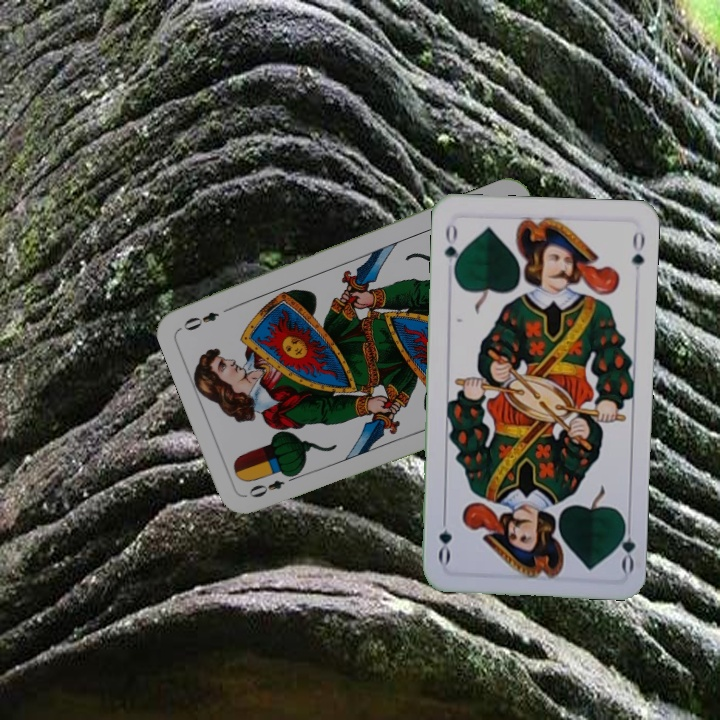EO: (244, 469, 301, 501)
GO: (612, 515, 638, 574), (440, 221, 464, 277)
